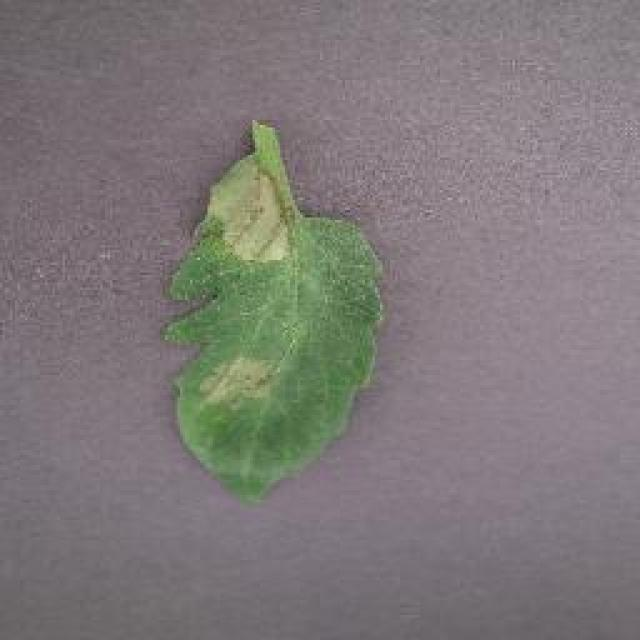Tomato Late Blight: (197, 205, 323, 415)
